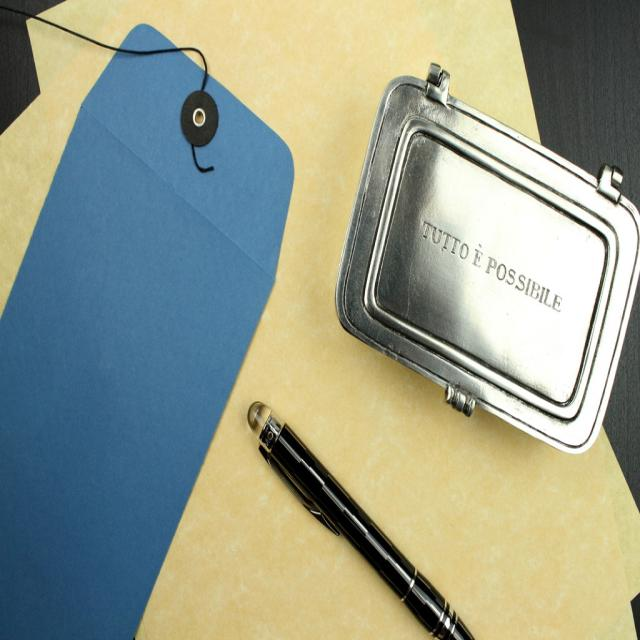pen: (230, 397, 483, 640)
